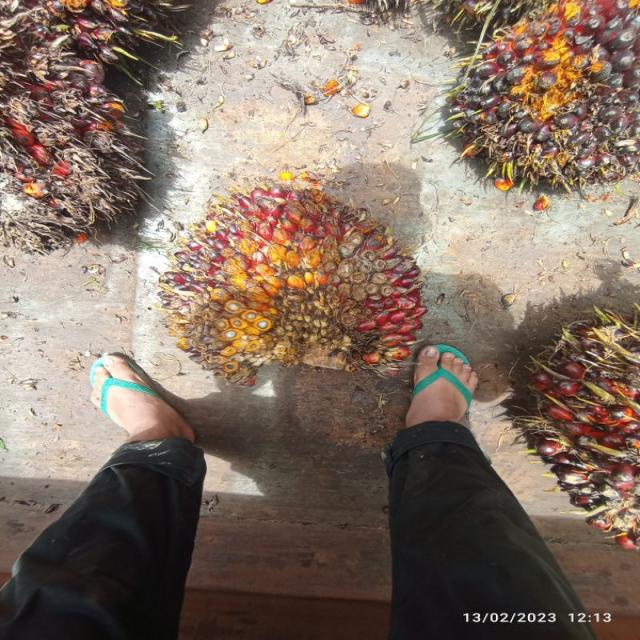fraksi 00: (446, 0, 640, 204)
fraksi 1: (133, 105, 432, 396)
